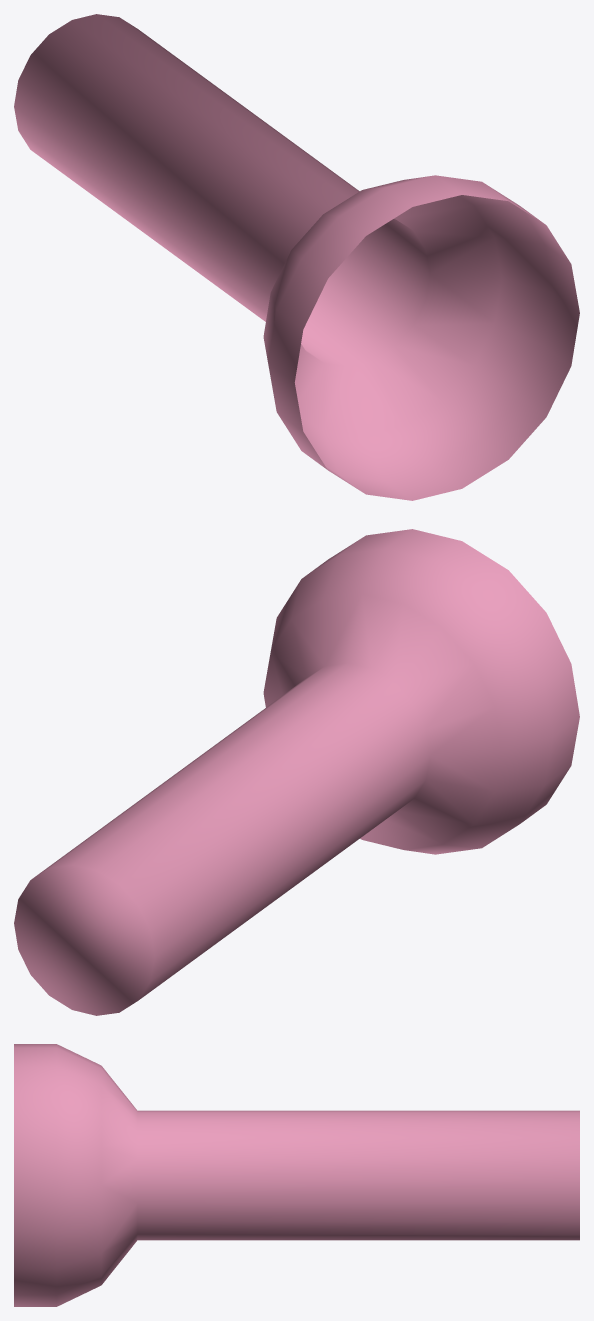
The model's file is nexus002.002.obj.
The picture shows the model from 3 angles, top to bottom: view 1: azimuth 30°, elevation 25°; view 2: azimuth 150°, elevation 25°; view 3: azimuth 270°, elevation 25°; orthographic projection. The views are drawn at different scales.
Visible parts, largest first — view 1: nexus002.002; view 2: nexus002.002; view 3: nexus002.002.
Boxes of the visible parts, x1,y1,x2,y2 form: nexus002.002: (14, 14, 579, 500); nexus002.002: (14, 529, 579, 1015); nexus002.002: (14, 1044, 579, 1306).
Bounding box in the file's own units: 0.4712 × 0.4641 × 1.01.
